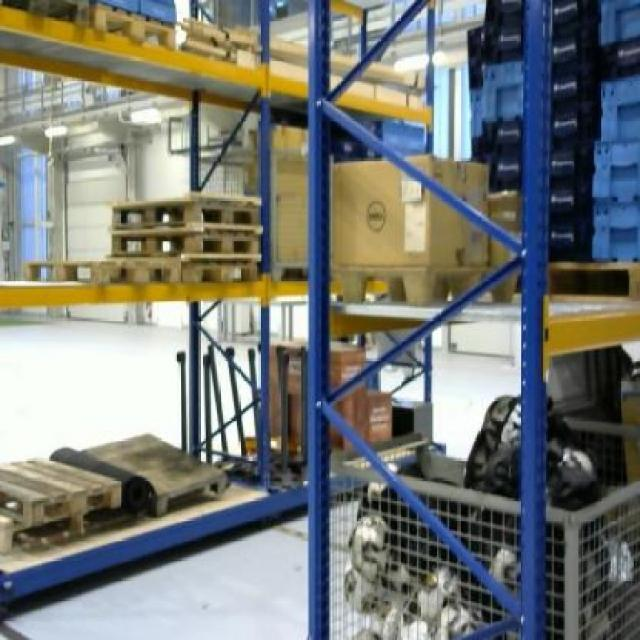box: (330, 154, 490, 264), (270, 124, 308, 266)
